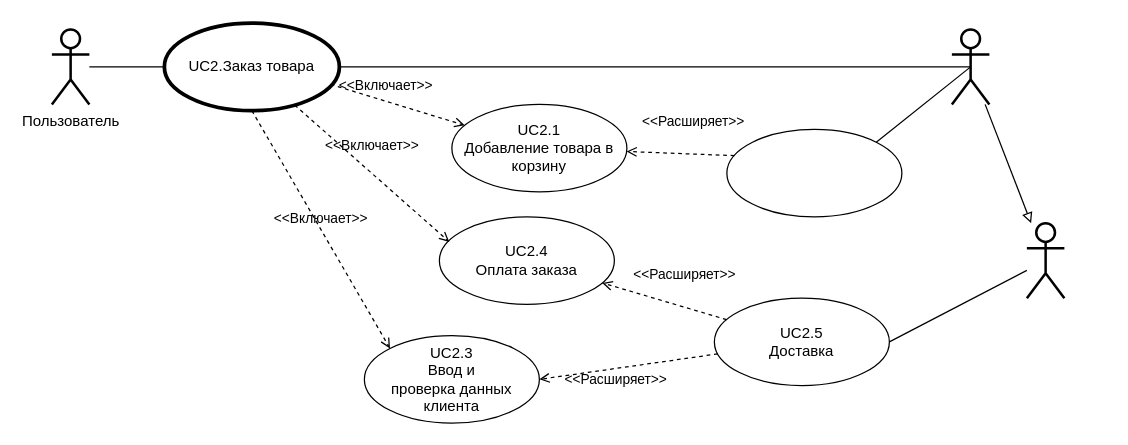
This 1128x445 diagram has some shape labels left out. The centre of each missing label's shape, as x and y in pixels:
UC2.2 Действия с параметрами списка товаров: (x=814, y=172)
Магазин: (x=970, y=66)
Служба доставки: (x=1045, y=260)
